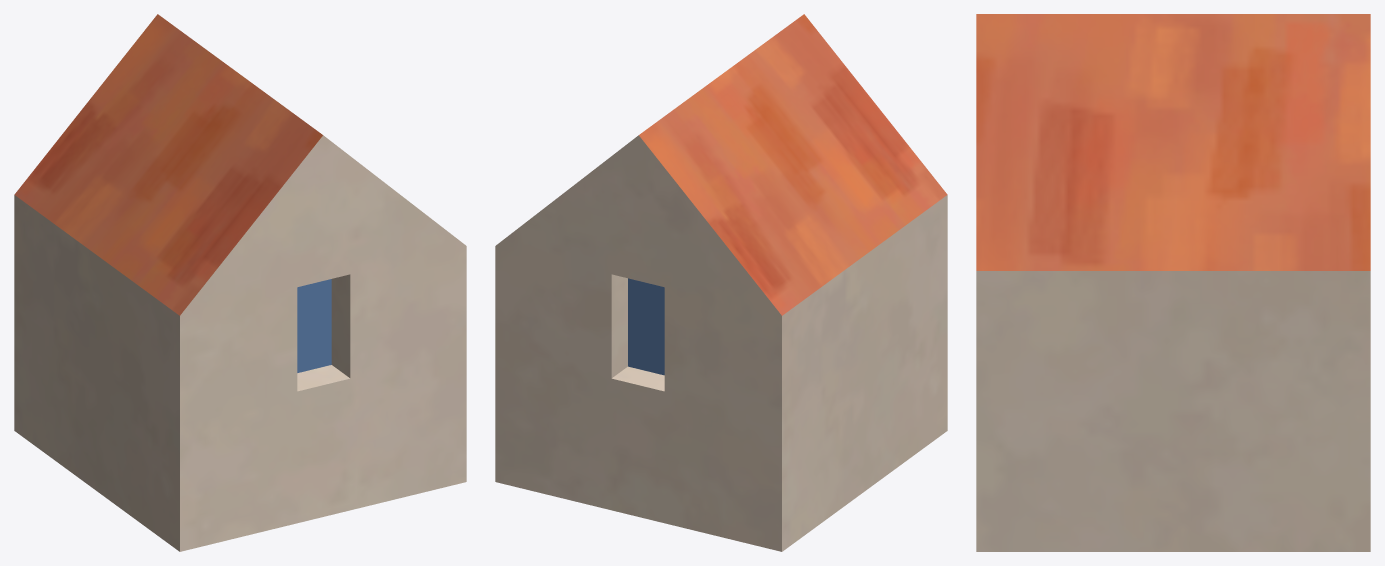
Rendered from house4.fbx.
The picture shows the model from 3 angles, left to right: view 1: azimuth 30°, elevation 25°; view 2: azimuth 150°, elevation 25°; view 3: azimuth 270°, elevation 25°; orthographic projection. The views are drawn at different scales.
Visible parts, largest first — view 1: house4; view 2: house4; view 3: house4.
Part boxes in pixels (x1=…): house4: x1=14, y1=14, x2=466, y2=551; house4: x1=495, y1=14, x2=947, y2=551; house4: x1=976, y1=14, x2=1370, y2=551.
Size of the model in its own units: 200 by 254 by 200.
